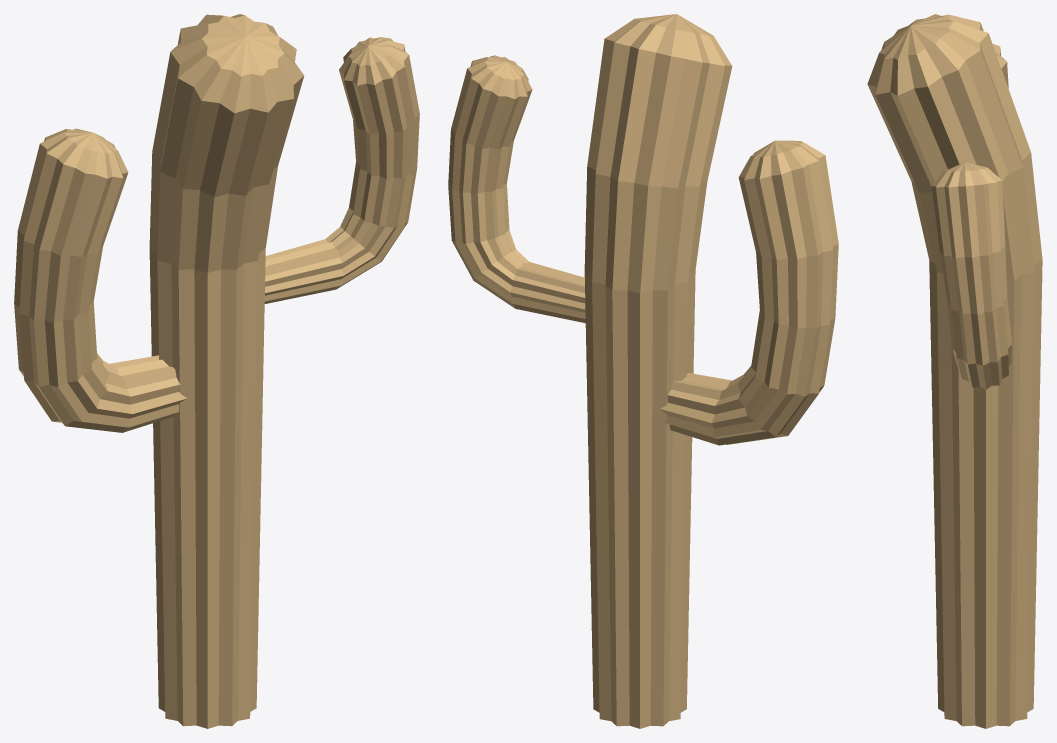
The model's file is Mega_Asset_s_Pack_Cylinder_188.FBX.
3 renders of one model, left to right at view 1: azimuth 30°, elevation 25°; view 2: azimuth 150°, elevation 25°; view 3: azimuth 270°, elevation 25°, orthographic. The views are drawn at different scales.
Visible parts, largest first — view 1: Mega_Asset_s_Pack_Cylinder_188; view 2: Mega_Asset_s_Pack_Cylinder_188; view 3: Mega_Asset_s_Pack_Cylinder_188.
Part boxes in pixels (x1=…): Mega_Asset_s_Pack_Cylinder_188: x1=14, y1=14, x2=419, y2=728; Mega_Asset_s_Pack_Cylinder_188: x1=448, y1=14, x2=838, y2=728; Mega_Asset_s_Pack_Cylinder_188: x1=867, y1=14, x2=1042, y2=728.
Size of what is drawn, in the model's own units: 184 by 72.35 by 313.
